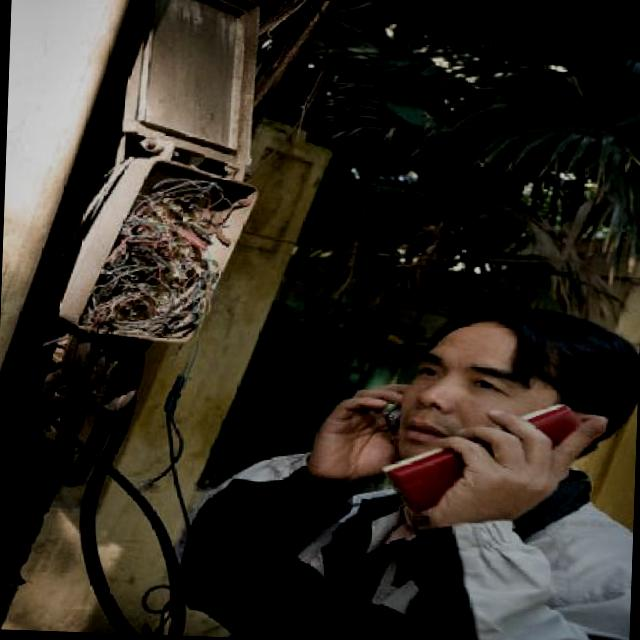Person: (169, 293, 640, 640)
